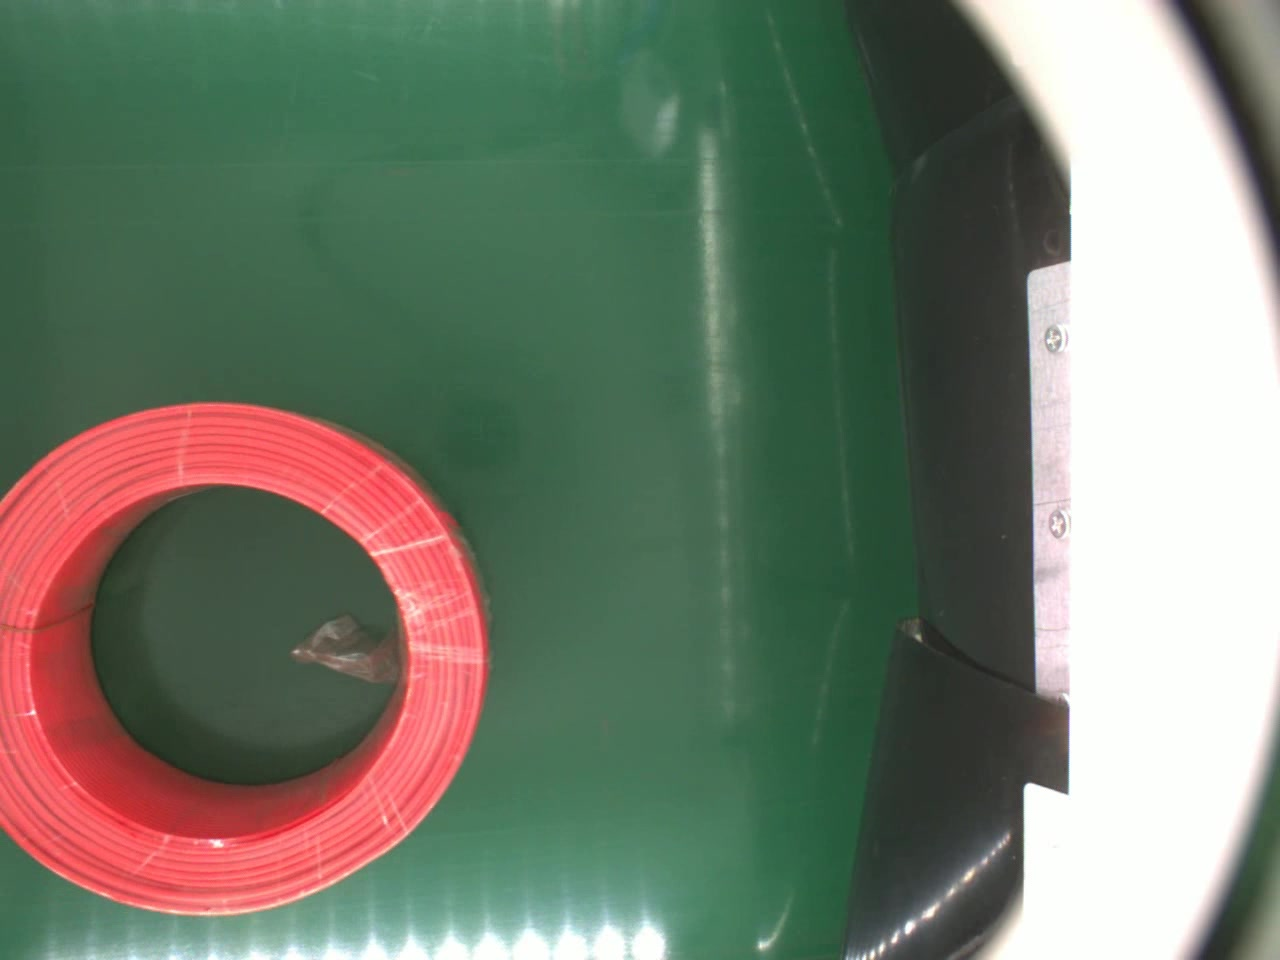red: (0, 397, 493, 919)
